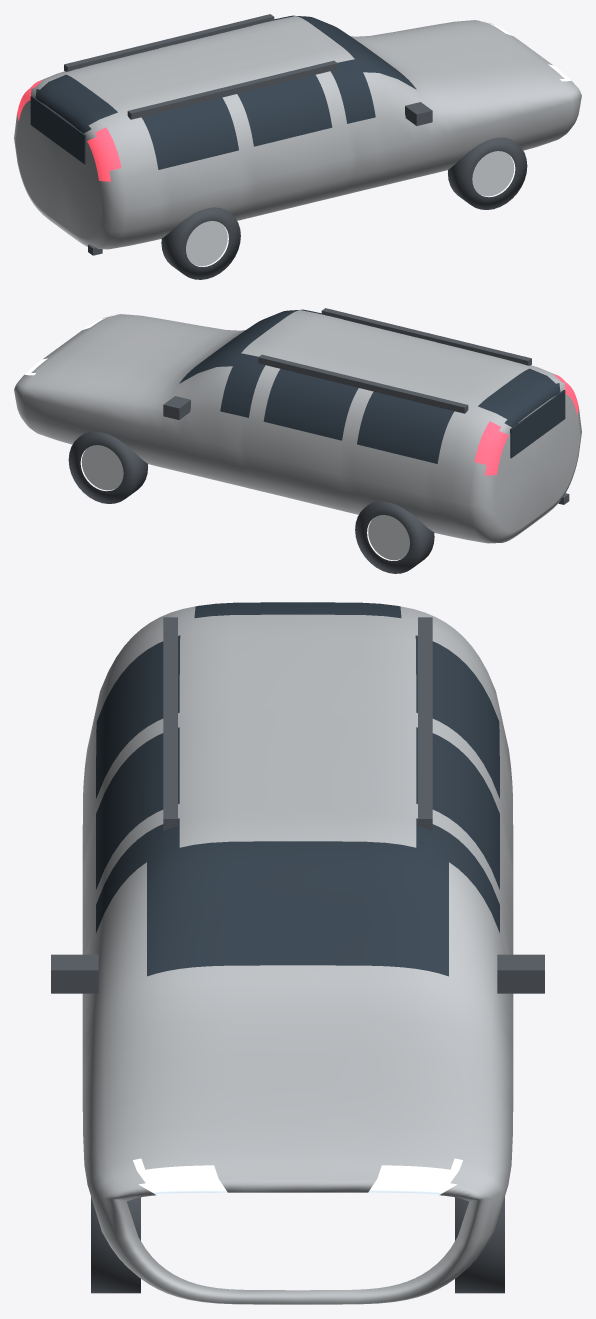
File: opel-astra-h-caravan-grey.glb
The picture shows the model from 3 angles, top to bottom: view 1: azimuth 30°, elevation 25°; view 2: azimuth 150°, elevation 25°; view 3: azimuth 270°, elevation 25°; orthographic projection. The views are drawn at different scales.
Visible parts, largest first — view 1: Opel Astra H Caravan; view 2: Opel Astra H Caravan; view 3: Opel Astra H Caravan.
Part boxes in pixels (<box>): Opel Astra H Caravan: <box>14,14,581,279</box>; Opel Astra H Caravan: <box>14,308,581,573</box>; Opel Astra H Caravan: <box>51,602,544,1304</box>.
Size of the model in its own units: 4.53 by 1.5 by 2.02.
